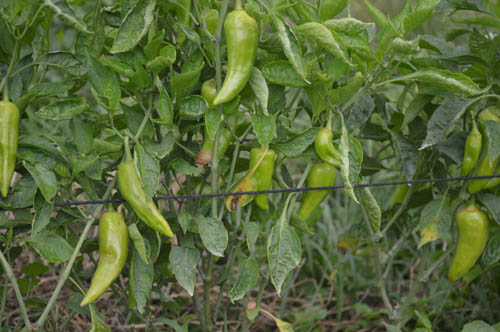ChiliPepper: (216, 10, 261, 109), (117, 162, 173, 237), (81, 214, 127, 300), (194, 83, 240, 166), (449, 207, 488, 283), (298, 161, 337, 228), (472, 111, 497, 194), (247, 146, 275, 210), (1, 103, 18, 200), (312, 127, 345, 169), (460, 132, 480, 181)
